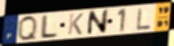1: (117, 7, 128, 33)
K: (67, 12, 85, 36)
L: (38, 14, 60, 40), (137, 7, 153, 31)
N: (86, 8, 110, 36)
Q: (17, 14, 39, 41)
